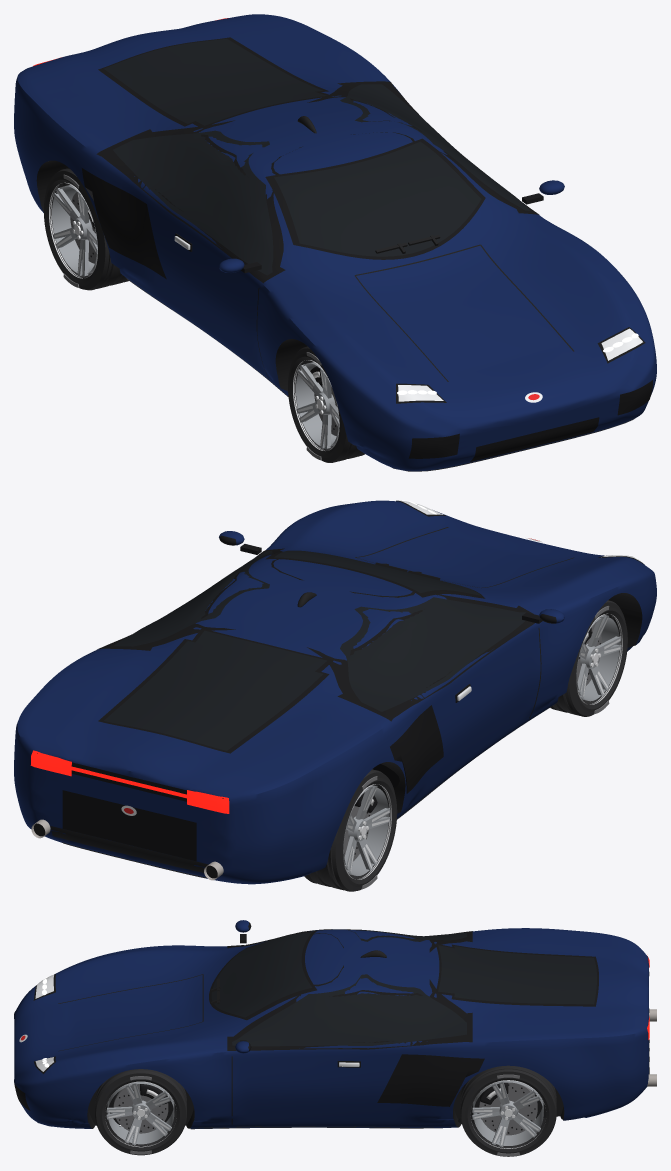
The model's file is gts.glb.
3 views of the same model, one above another, from view 1: azimuth 30°, elevation 25°; view 2: azimuth 150°, elevation 25°; view 3: azimuth 270°, elevation 25° (orthographic). The views are drawn at different scales.
Parts seen in each view (by area): view 1: Body, Wheel_RR, Wheel_FR; view 2: Body, Wheel_RR, Wheel_FR; view 3: Body, Wheel_RL, Wheel_FL.
Part boxes in pixels (x1,y1,x2,y2): Body: [14, 14, 656, 471]; Wheel_RR: [43, 168, 128, 290]; Wheel_FR: [288, 346, 364, 462]; Body: [14, 500, 656, 884]; Wheel_RR: [304, 769, 397, 891]; Wheel_FR: [550, 600, 627, 716]; Body: [14, 920, 656, 1129]; Wheel_RL: [460, 1065, 556, 1156]; Wheel_FL: [95, 1069, 186, 1155].
Bounding box in the file's own units: 2.23 × 1.22 × 4.67.
